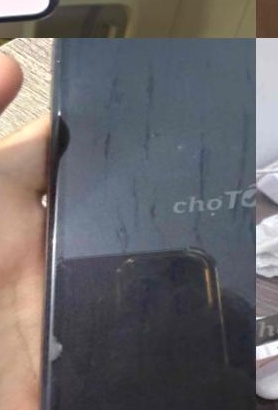physical_damage: (27, 314, 86, 383)
scratch: (37, 38, 88, 143)
